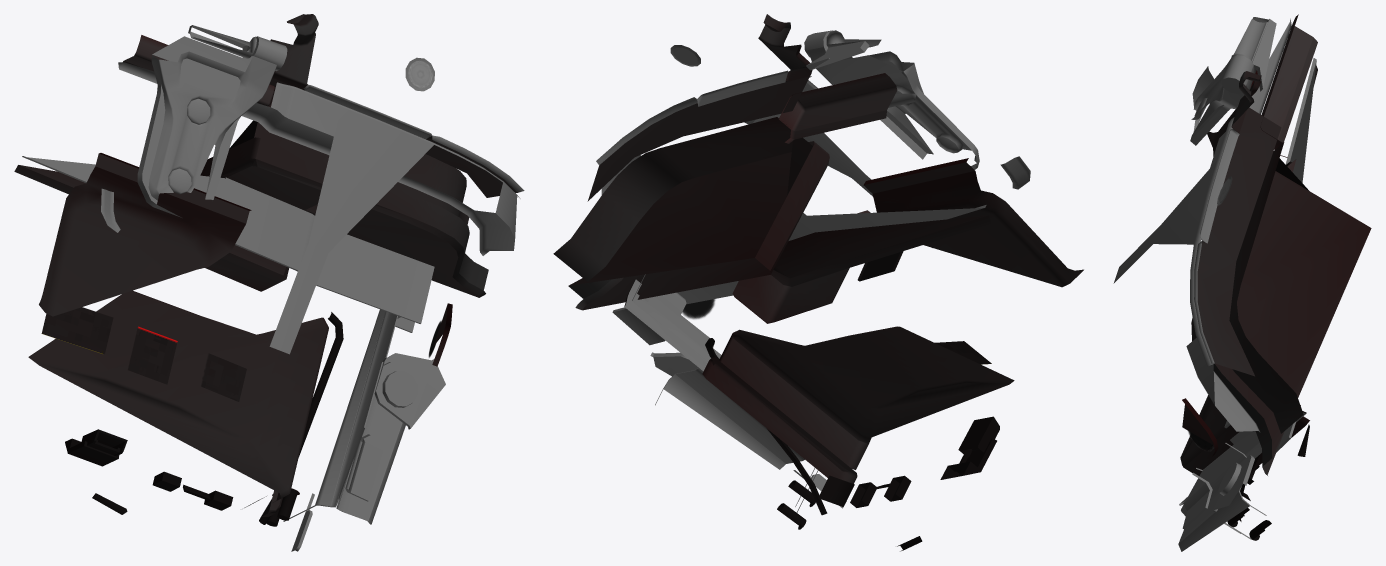
File: car.jeep.gladiator.steering.glb
3 renders of one model, left to right at view 1: azimuth 30°, elevation 25°; view 2: azimuth 150°, elevation 25°; view 3: azimuth 270°, elevation 25°, orthographic. The views are drawn at different scales.
Visible parts, largest first — view 1: steering; view 2: steering; view 3: steering.
Part boxes in pixels (x1,y1,x2,y2): steering: (14,14,524,551); steering: (553,14,1083,551); steering: (1113,14,1371,551).
Size of the model in its own units: 0.4125 by 0.4128 by 0.198.
Materials: 4 (3 with a texture image).
